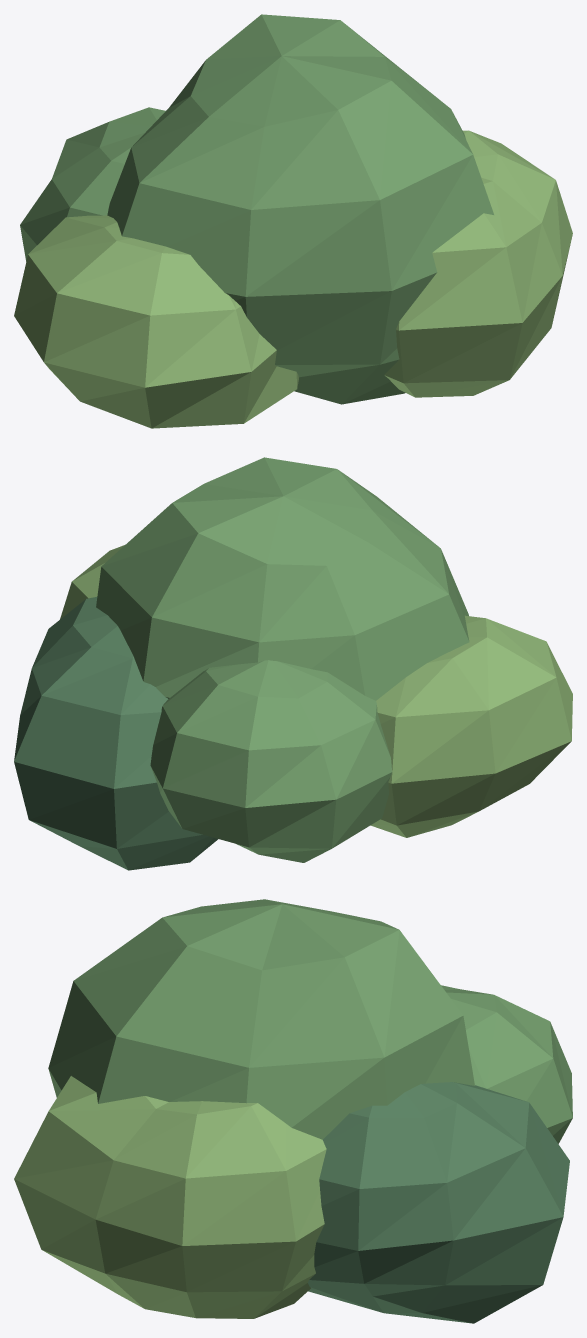
Rendered from bush_round.glb.
3 views of the same model, one above another, from view 1: azimuth 30°, elevation 25°; view 2: azimuth 150°, elevation 25°; view 3: azimuth 270°, elevation 25° (orthographic). The views are drawn at different scales.
Visible parts, largest first — view 1: bush_round; view 2: bush_round; view 3: bush_round.
Boxes of the visible parts, bbox=[...] form: bush_round: bbox=[14, 14, 572, 428]; bush_round: bbox=[14, 457, 572, 870]; bush_round: bbox=[14, 899, 572, 1323].
Bounding box in the file's own units: 1.96 × 1.25 × 1.73.
